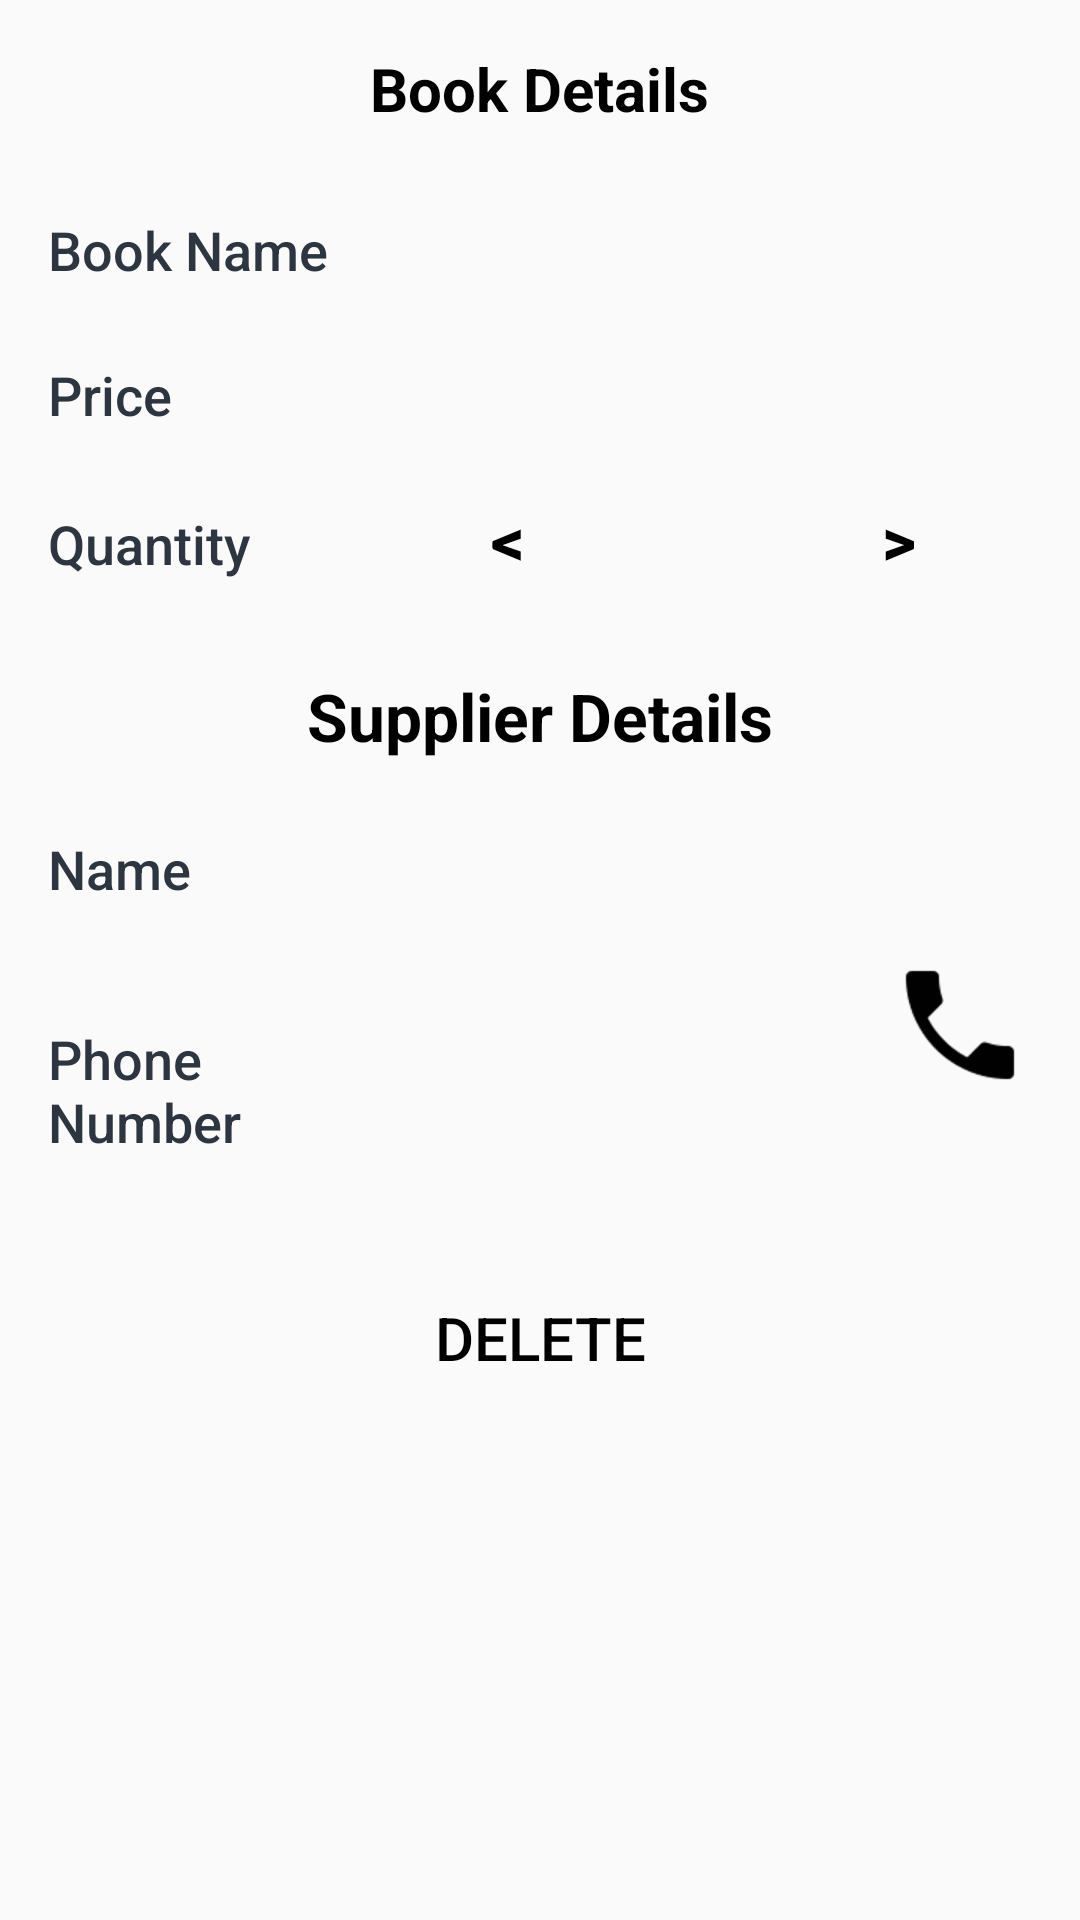

Where to tap for icons on this 1080 x 1920 app screen, as (x=x, y=y):
phone image: (x=960, y=1025)
